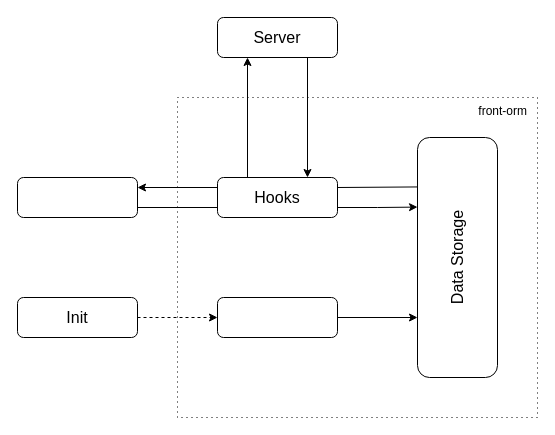
The diagram is 555 pixels wide and 435 high, and some of its shapes have lost their labels. Here are the shapes that lost their labels. From the top down, the centre of each, then its label:
At point (77, 197): "Viewer".
At point (277, 317): "Model".
